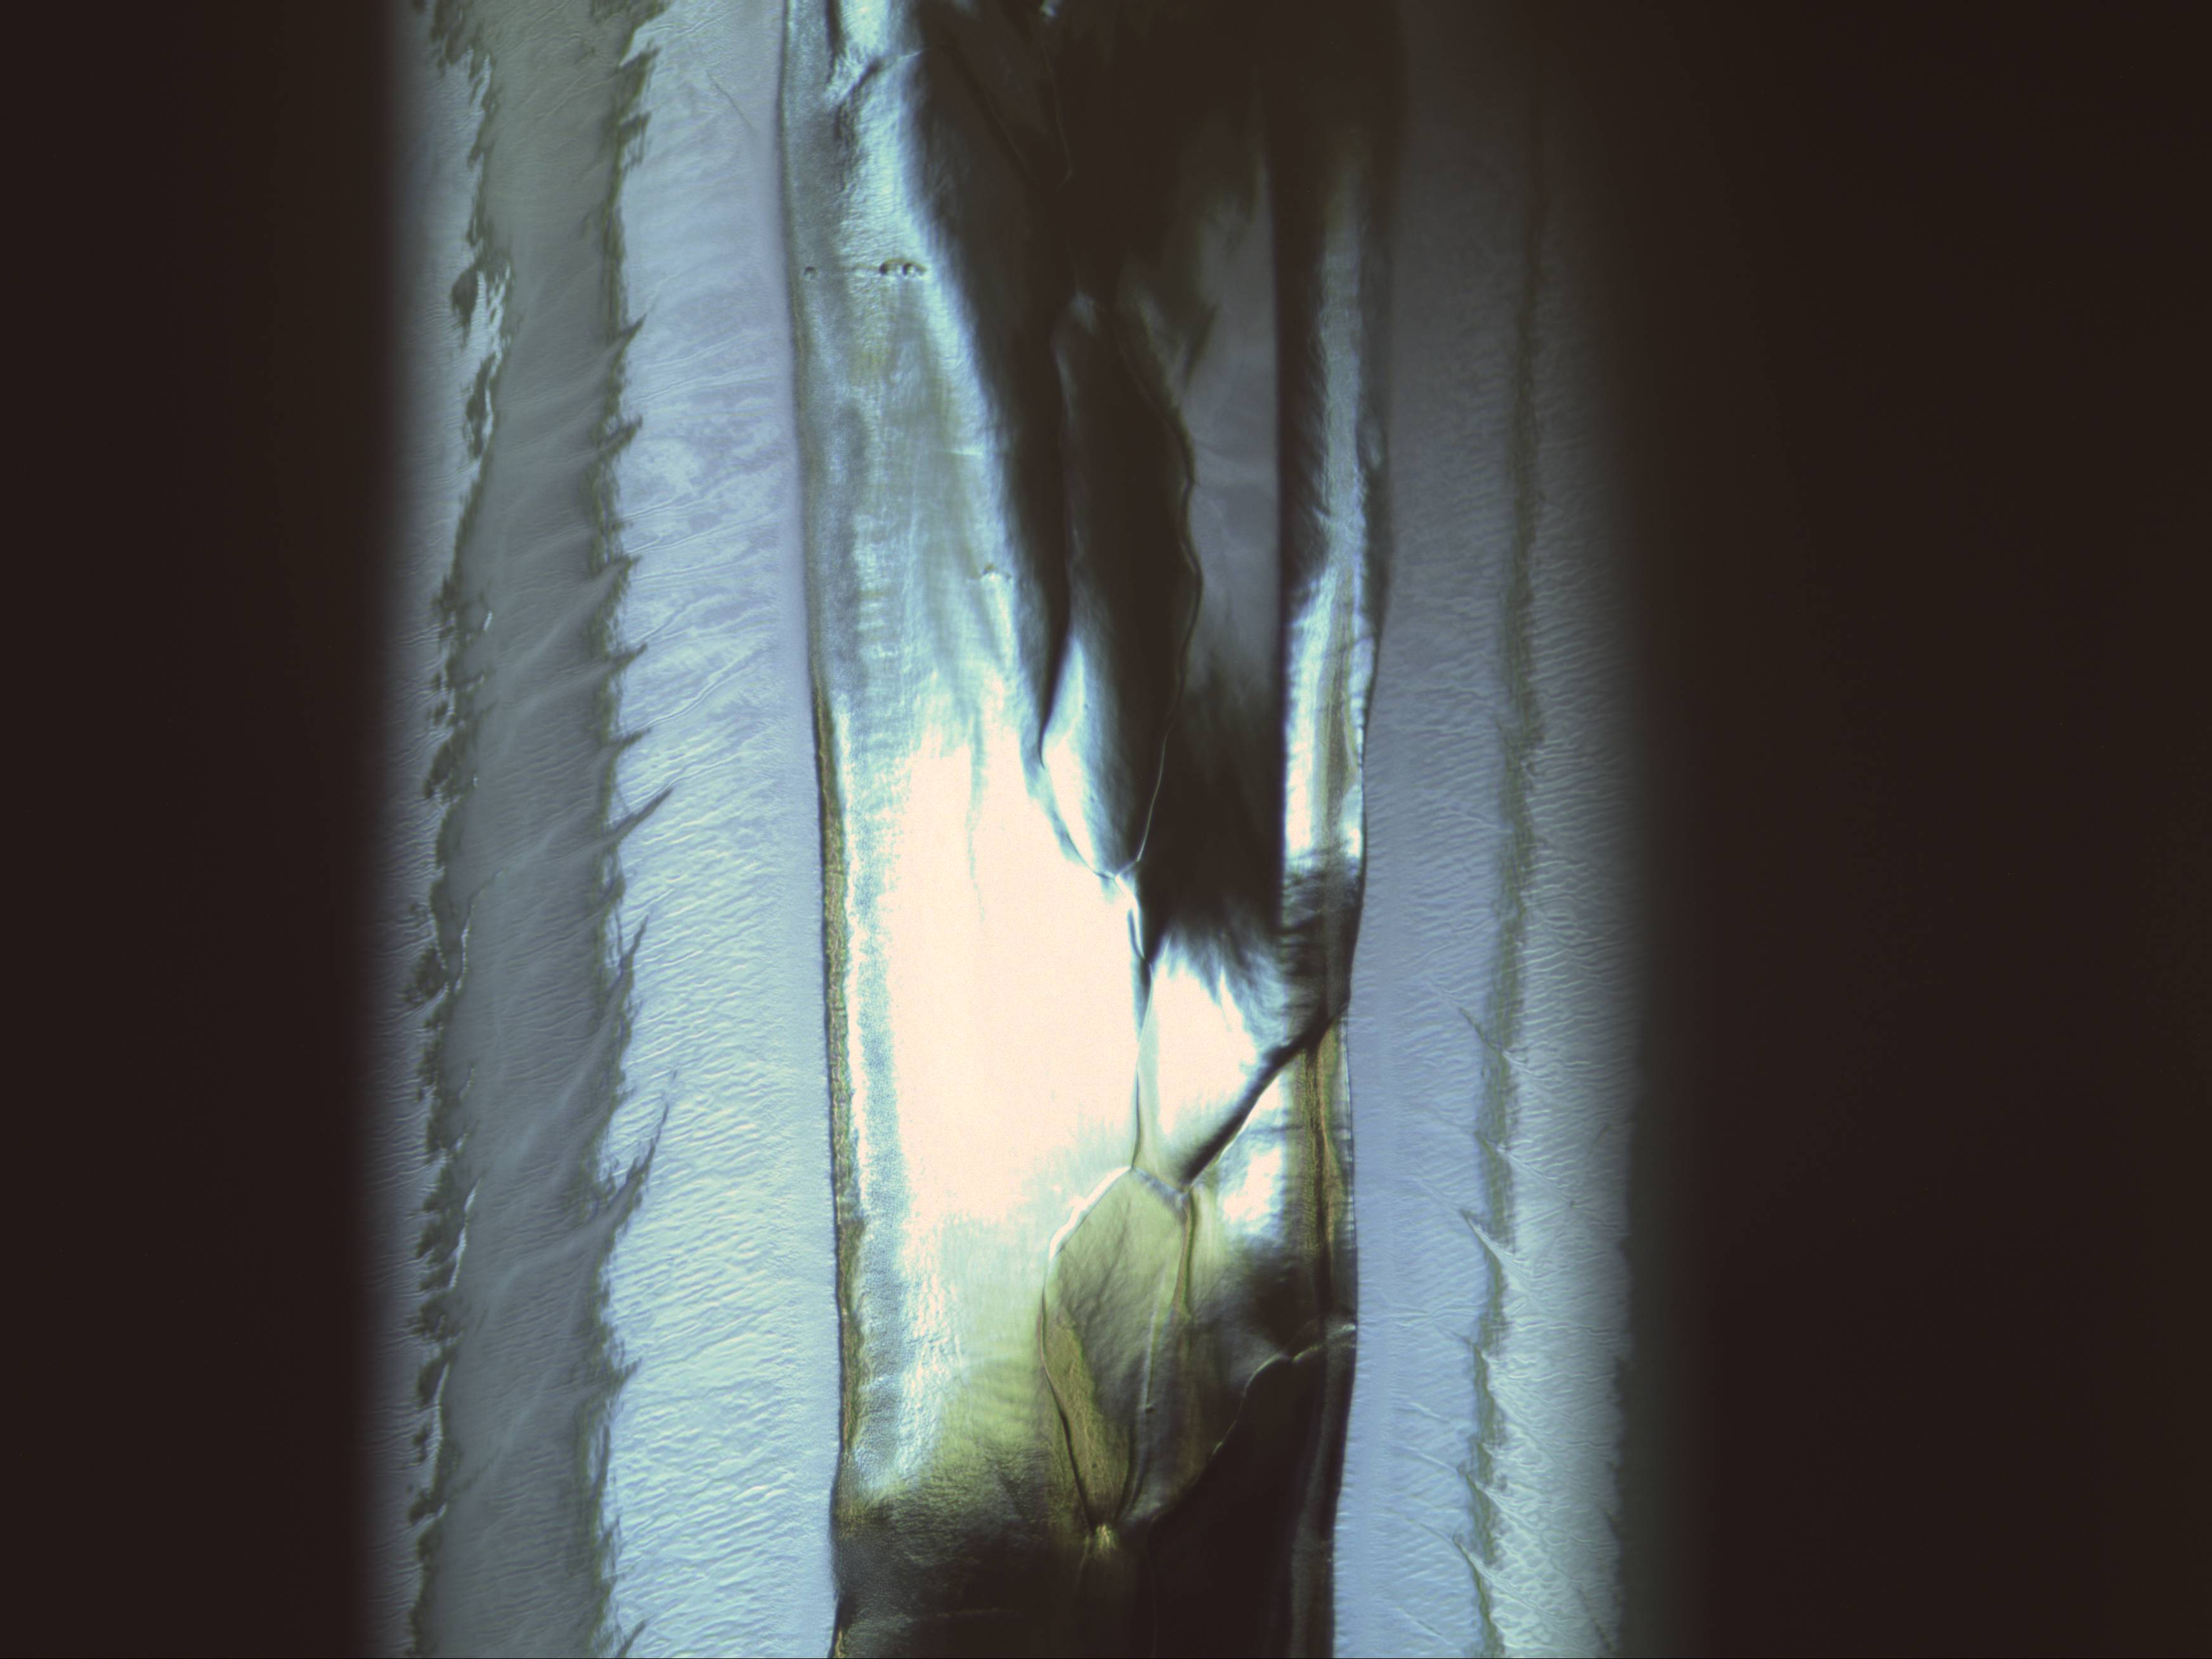defect: (864, 251, 934, 282)
